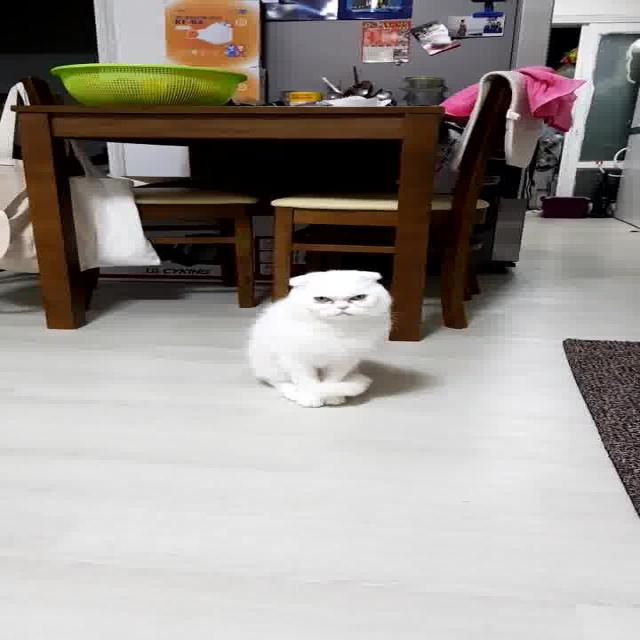cat: (231, 269, 414, 413)
